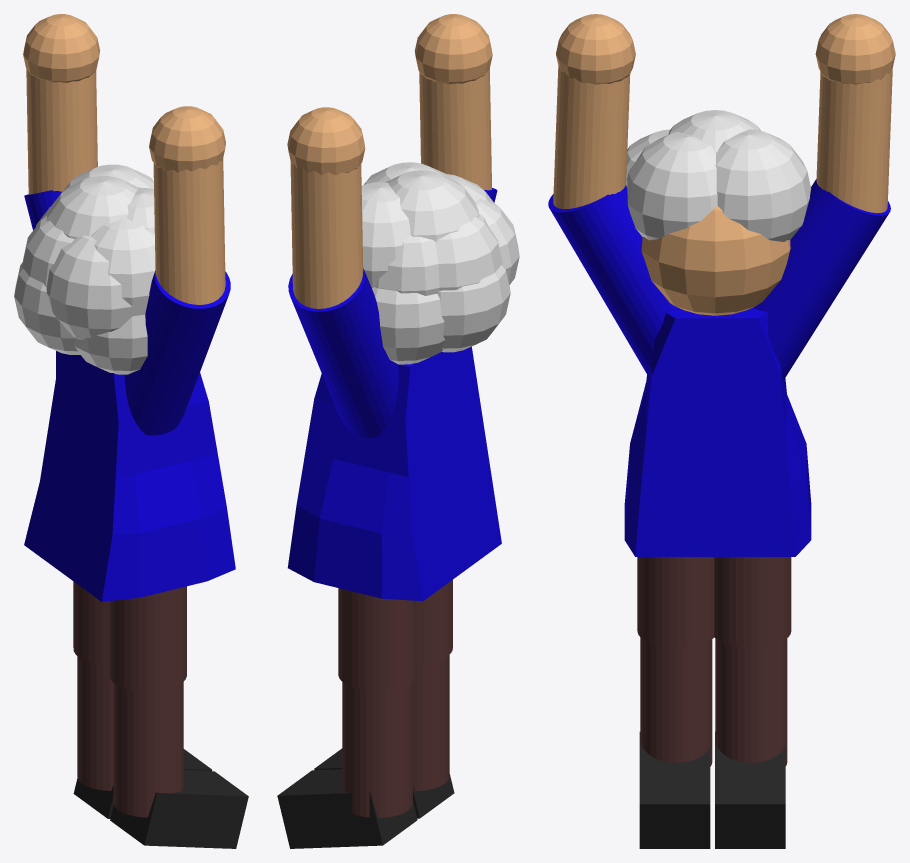
The model's file is gramma.fbx.
The picture shows the model from 3 angles, left to right: view 1: azimuth 30°, elevation 25°; view 2: azimuth 150°, elevation 25°; view 3: azimuth 270°, elevation 25°; orthographic projection. The views are drawn at different scales.
Visible parts, largest first — view 1: Cube, Cylinder.002, Cylinder.001, Cylinder.007, Cylinder.003, Cylinder.005, Cube.001, Sphere.004, Cylinder.006, Sphere.012, Sphere.011, Sphere.003 (+9 smaller); view 2: Cube, Cylinder, Cylinder.003, Cylinder.006, Cylinder.004, Cylinder.002, Cube.002, Cylinder.007, Sphere.011, Sphere.009, Sphere.001, Sphere.012 (+8 smaller); view 3: Cube, Sphere, Cylinder, Cylinder.001, Cylinder.003, Cylinder.002, Cylinder.007, Cylinder.006, Sphere.006, Sphere.007, Cylinder.005, Cylinder.004 (+5 smaller).
Part boxes in pixels (box(x1,y1,x2,y2)): Cube: box(24, 351, 235, 601); Cylinder.002: box(153, 158, 225, 304); Cylinder.001: box(124, 270, 230, 435); Cylinder.007: box(113, 682, 183, 817); Cylinder.003: box(26, 69, 97, 194); Cylinder.005: box(109, 586, 186, 691); Cube.001: box(110, 770, 248, 848); Sphere.004: box(46, 235, 134, 339); Cylinder.006: box(77, 656, 113, 790); Sphere.012: box(23, 14, 100, 82); Sphere.011: box(149, 106, 225, 172); Sphere.003: box(91, 218, 155, 315); Cube: box(287, 346, 501, 601); Cylinder: box(288, 268, 398, 437); Cylinder.003: box(290, 162, 363, 308); Cylinder.006: box(342, 682, 412, 817); Cylinder.004: box(338, 588, 416, 690); Cylinder.002: box(419, 68, 491, 190); Cube.002: box(277, 769, 417, 848); Cylinder.007: box(413, 655, 449, 790); Sphere.011: box(414, 14, 492, 84); Sphere.009: box(372, 287, 445, 364); Sphere.001: box(385, 170, 479, 241); Sphere.012: box(287, 107, 365, 175); Cube: box(624, 307, 811, 556); Sphere: box(641, 206, 790, 315); Cylinder: box(753, 179, 890, 380); Cylinder.001: box(548, 185, 680, 376); Cylinder.003: box(816, 67, 892, 213); Cylinder.002: box(553, 65, 630, 208); Cylinder.007: box(640, 637, 712, 766); Cylinder.006: box(715, 638, 787, 765); Sphere.006: box(715, 129, 811, 241); Sphere.007: box(627, 131, 717, 240); Cylinder.005: box(637, 557, 714, 647); Cylinder.004: box(714, 557, 791, 647).
Size of the model in its own units: 2.82 by 10.95 by 4.33.
